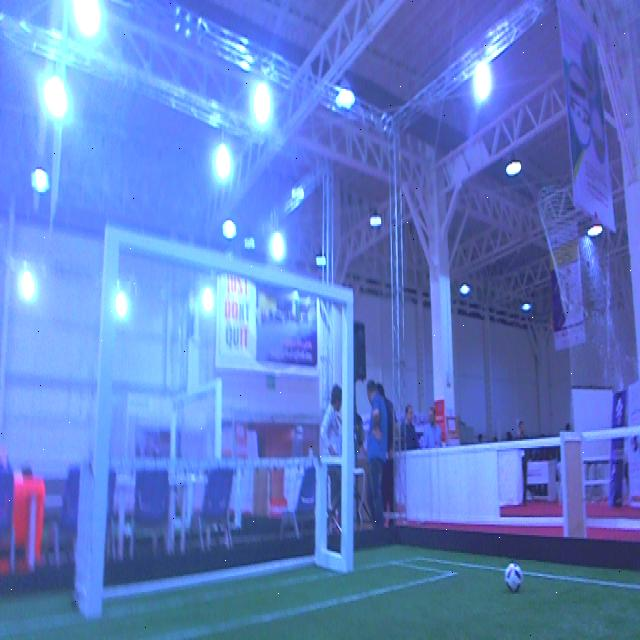ball: (504, 562, 522, 594)
goalpost: (87, 222, 120, 615), (344, 284, 356, 570)
